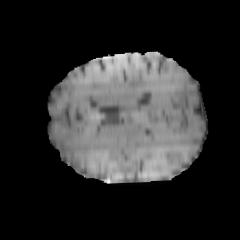glioma: (51, 126, 155, 175)
